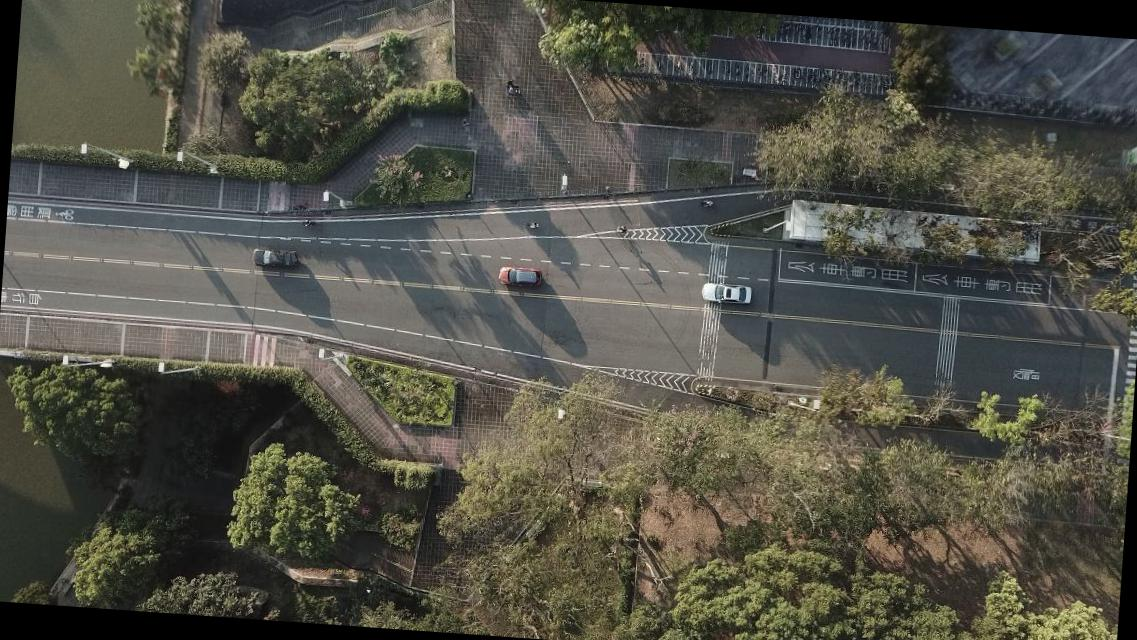vehicle: (700, 282, 753, 305), (496, 264, 542, 288), (250, 247, 297, 269)
